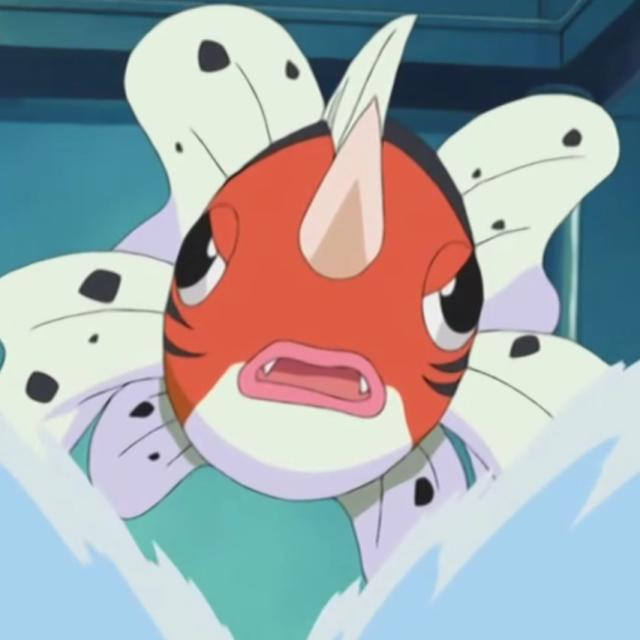Seaking: (8, 1, 628, 575)
